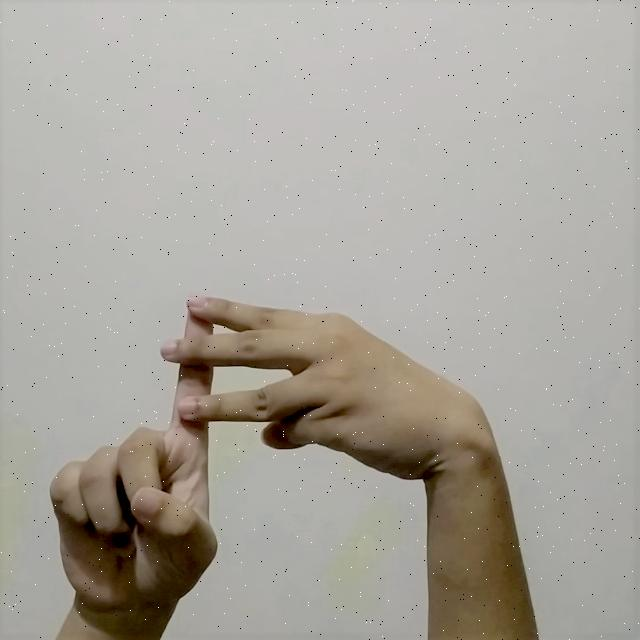B: (38, 288, 506, 610)
